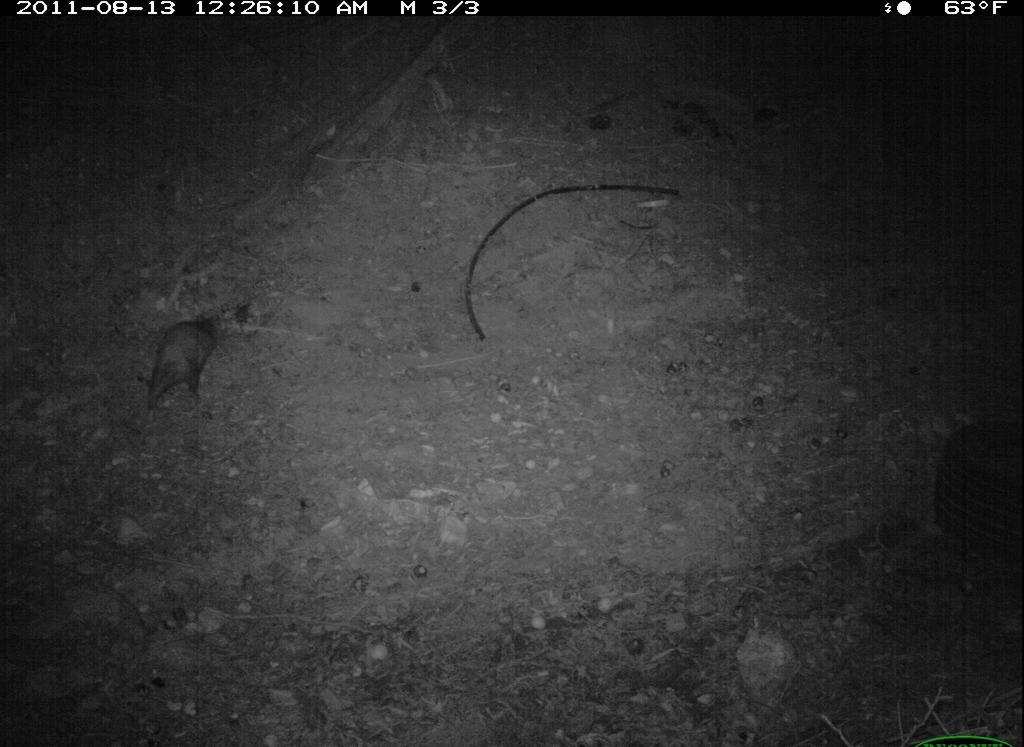opossum: (143, 311, 225, 410)
